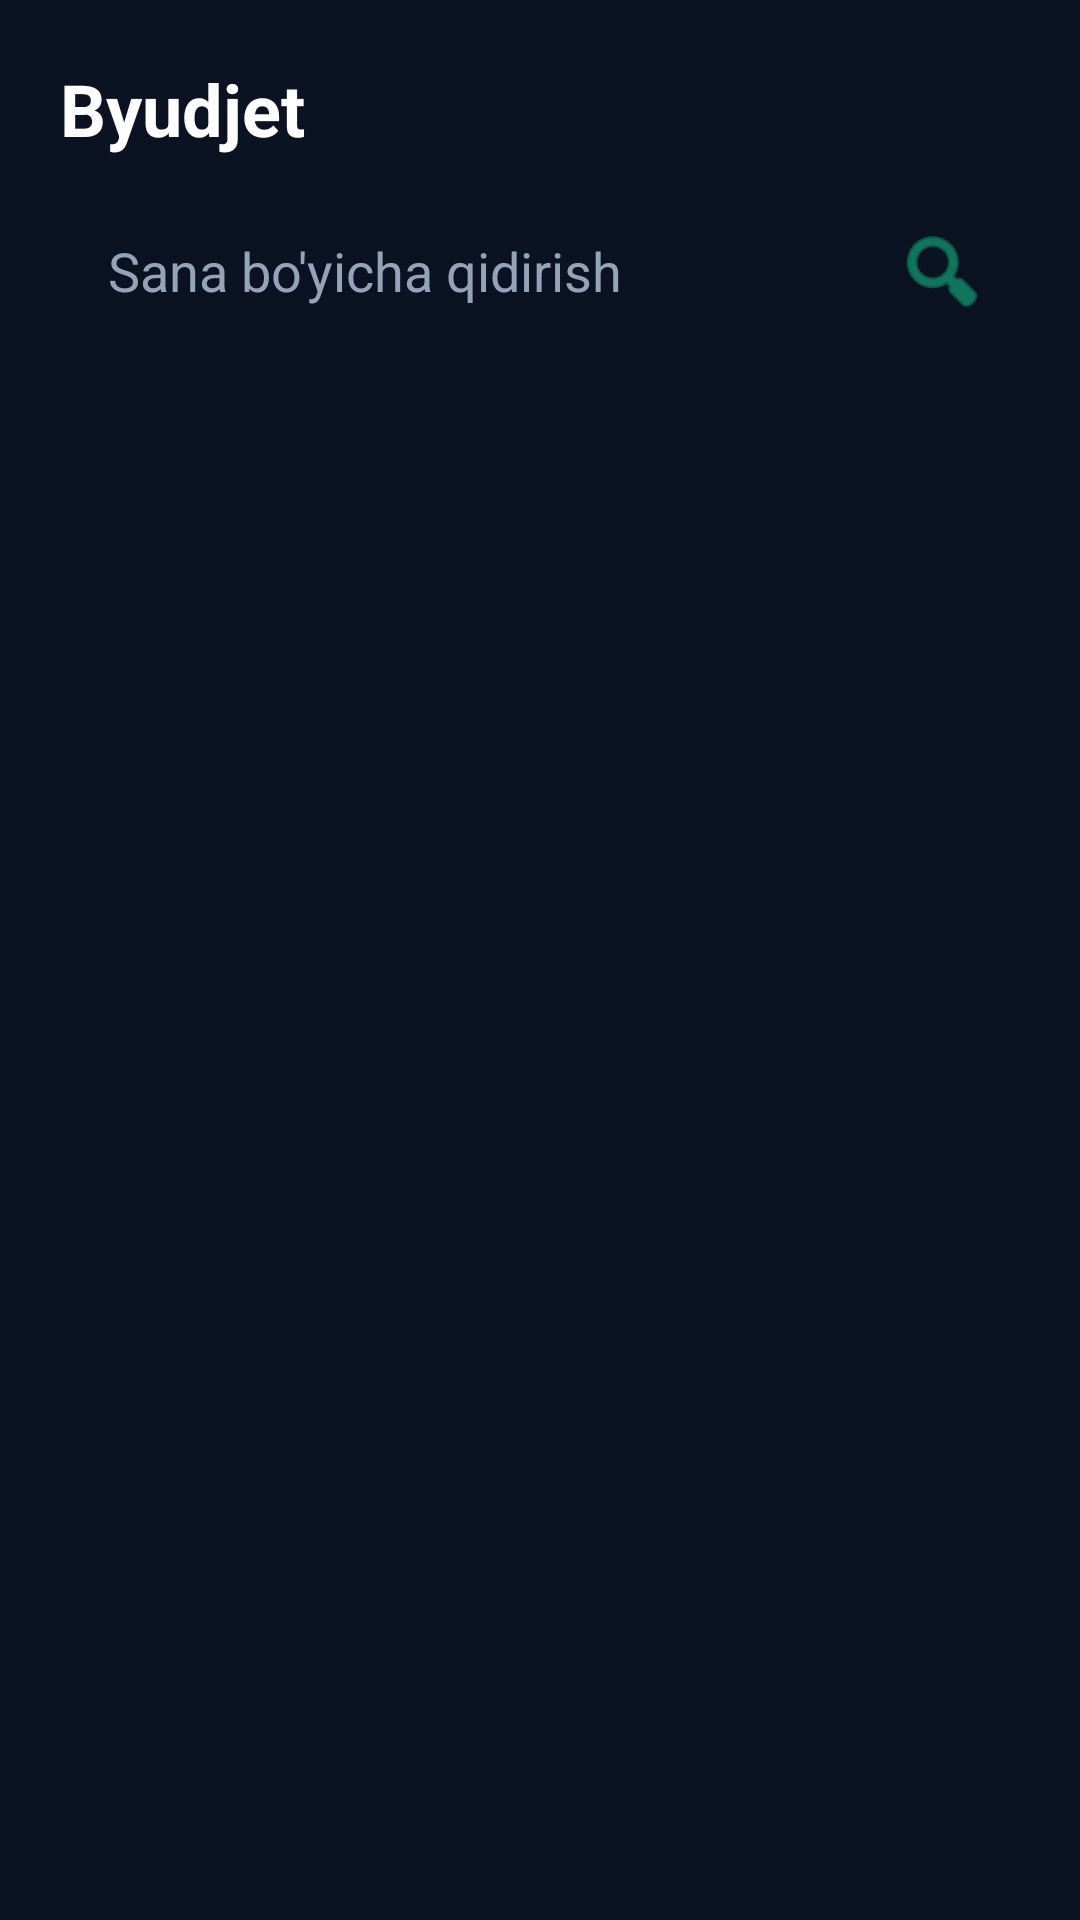

Screen size 1080px x 1920px. Icon name, then its box in pixels as [x1,y1,x2,y2]:
search: [907,236,977,307]
